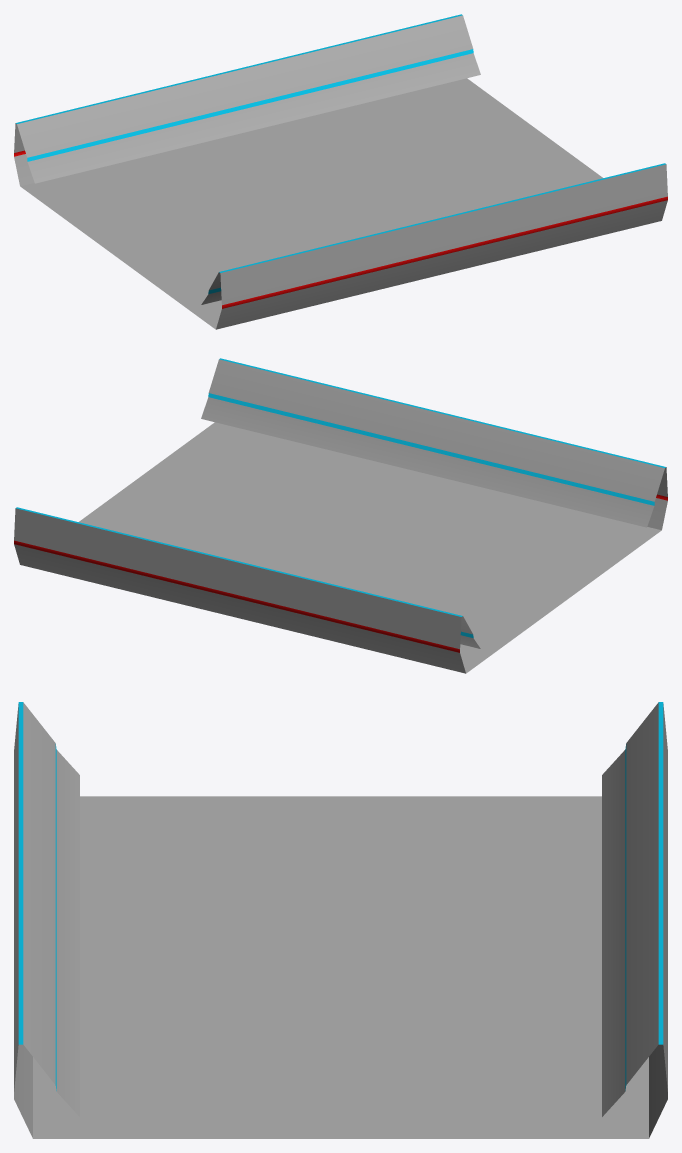
Rendered from genWall.fbx.
The picture shows the model from 3 angles, top to bottom: view 1: azimuth 30°, elevation 25°; view 2: azimuth 150°, elevation 25°; view 3: azimuth 270°, elevation 25°; orthographic projection. The views are drawn at different scales.
Parts seen in each view (by area): view 1: genWall; view 2: genWall; view 3: genWall.
Part boxes in pixels (bbox=[...]): genWall: bbox=[14, 14, 667, 329]; genWall: bbox=[14, 358, 667, 673]; genWall: bbox=[14, 702, 667, 1138].
Bounding box in the file's own units: 0.1876 × 0.0241 × 0.1514.
